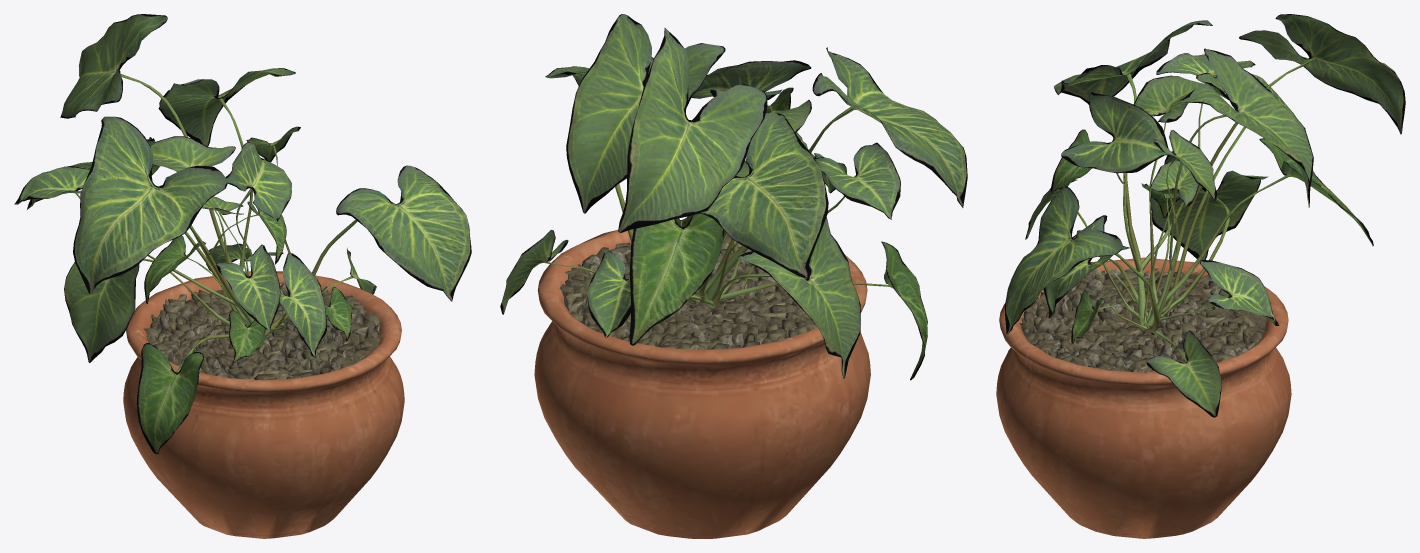
Rendered from potted_plant_02.glb.
The picture shows the model from 3 angles, left to right: view 1: azimuth 30°, elevation 25°; view 2: azimuth 150°, elevation 25°; view 3: azimuth 270°, elevation 25°; orthographic projection. The views are drawn at different scales.
Parts seen in each view (by area): view 1: potted_plant_02_leaves, potted_plant_02_pot, potted_plant_02_dirt; view 2: potted_plant_02_leaves, potted_plant_02_pot, potted_plant_02_dirt; view 3: potted_plant_02_leaves, potted_plant_02_pot, potted_plant_02_dirt.
Part boxes in pixels (left/top/right/bottom): potted_plant_02_leaves: left=14, top=14, right=471, bottom=453; potted_plant_02_pot: left=123, top=271, right=404, bottom=538; potted_plant_02_dirt: left=143, top=282, right=382, bottom=380; potted_plant_02_leaves: left=500, top=14, right=967, bottom=380; potted_plant_02_pot: left=534, top=220, right=870, bottom=538; potted_plant_02_dirt: left=559, top=233, right=816, bottom=349; potted_plant_02_leaves: left=1005, top=14, right=1405, bottom=417; potted_plant_02_pot: left=996, top=257, right=1291, bottom=538; potted_plant_02_dirt: left=1020, top=268, right=1266, bottom=372.
Bounding box in the file's own units: 0.7009 × 0.8412 × 0.6574.
Materials: 2 (2 with a texture image).
